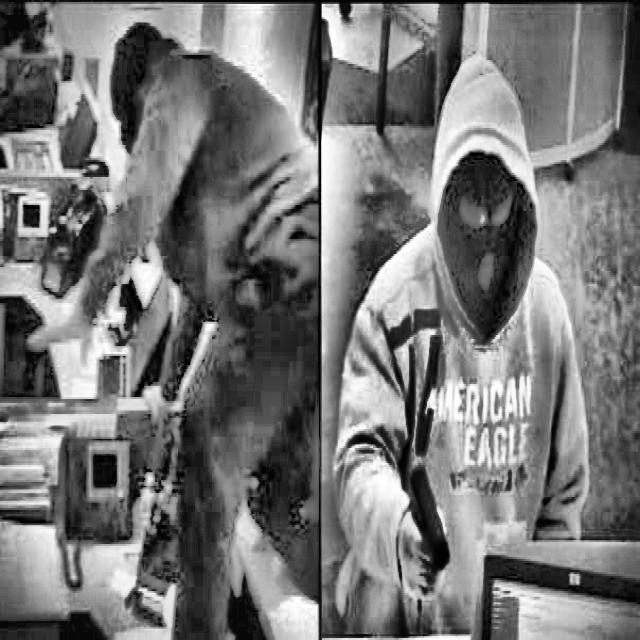robbery: (326, 45, 596, 640)
